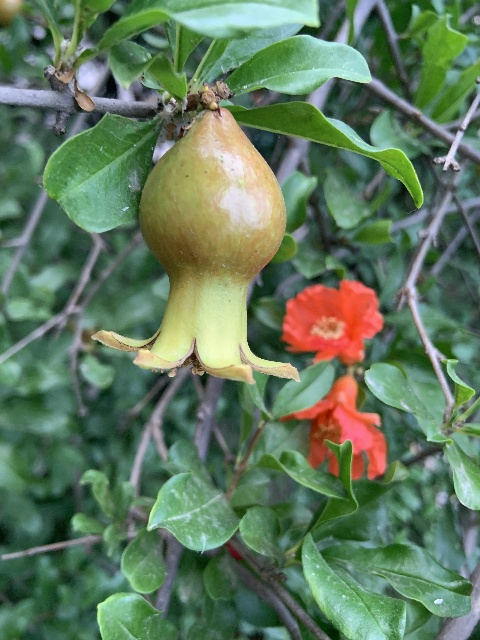early-fruit: (96, 109, 292, 383)
flower: (279, 374, 387, 479), (280, 279, 383, 366)
